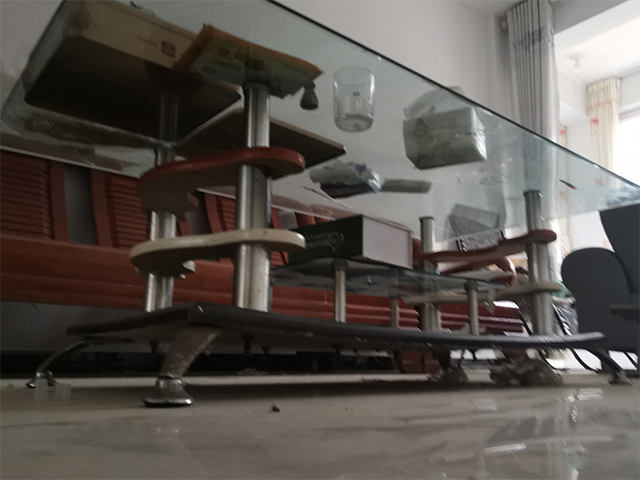curtain: (504, 2, 559, 220)
table: (1, 1, 638, 410)
